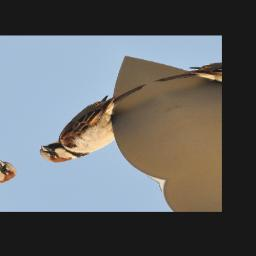Swallow: (15, 83, 182, 168)
